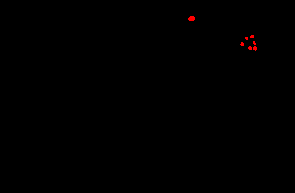Target: (188, 16, 195, 21), (253, 46, 257, 51), (240, 42, 244, 46), (248, 46, 252, 50), (250, 35, 254, 38), (253, 41, 256, 45), (245, 37, 248, 40)
